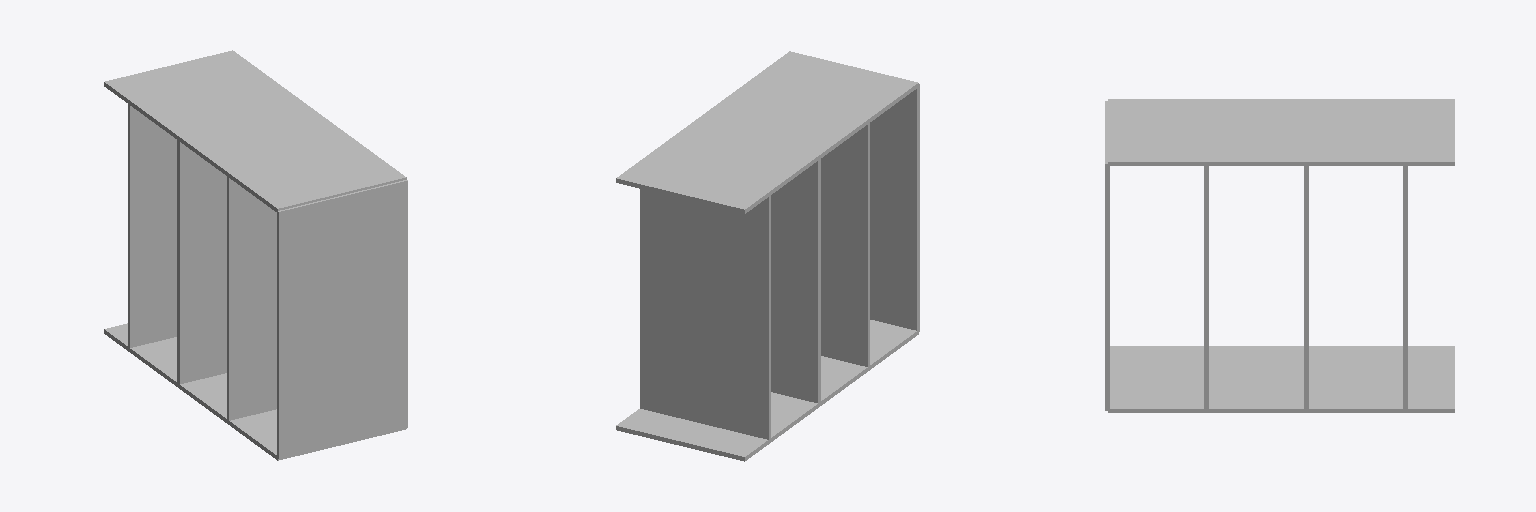
Rendered from bookshelves.obj.
The picture shows the model from 3 angles: view 1: azimuth 30°, elevation 25°; view 2: azimuth 150°, elevation 25°; view 3: azimuth 270°, elevation 25°; orthographic projection.
Parts seen in each view (by area): view 1: Cube.005; view 2: Cube.005; view 3: Cube.005.
Boxes of the visible parts, box(x1,y1,x2,y2) form: Cube.005: box(104, 50, 407, 460); Cube.005: box(616, 51, 919, 461); Cube.005: box(1105, 99, 1454, 412).
Bounding box in the file's own units: 0.6 × 1.12 × 1.41.